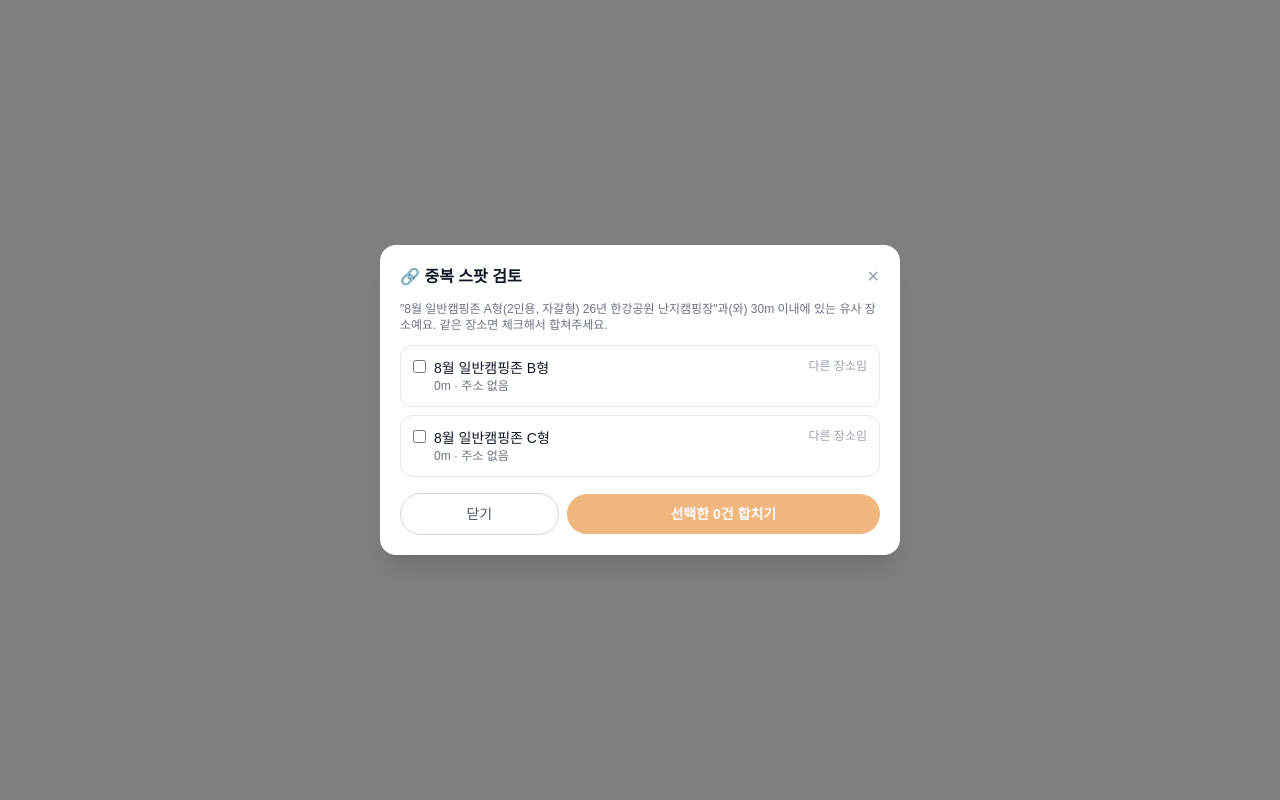
Test: SpotDedupQuickModal › 여러 건을 체크해 합치면 spot_ids에 현재 스팟 + 선택한 후보 전부가 담겨 저장된다
Check: the text "8월 일반캠핑존 B형" is shown, box [434,360,549,376]
Click the checkbox named "8월 일반캠핑존 B형 선택" at (420, 366), box [413,360,426,373]
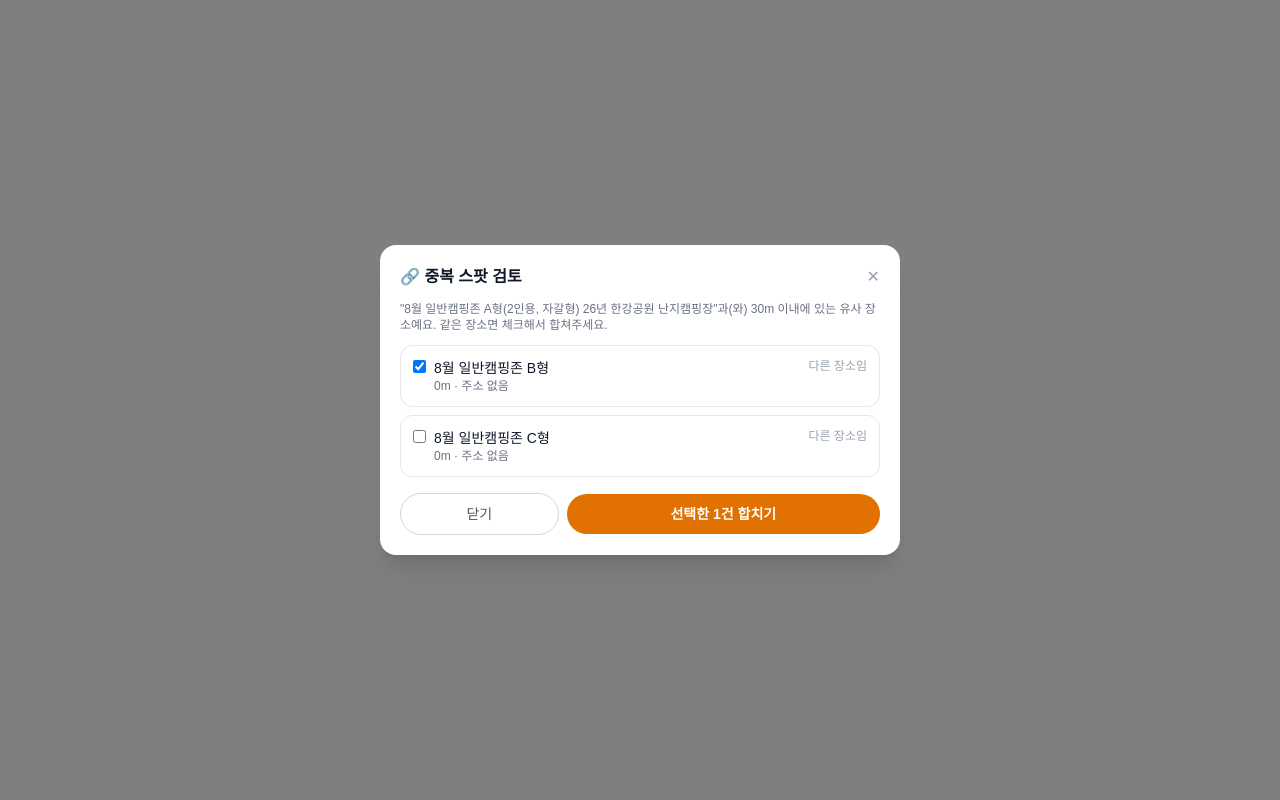
Click the checkbox named "8월 일반캠핑존 C형 선택" at (420, 436), box [413,430,426,443]
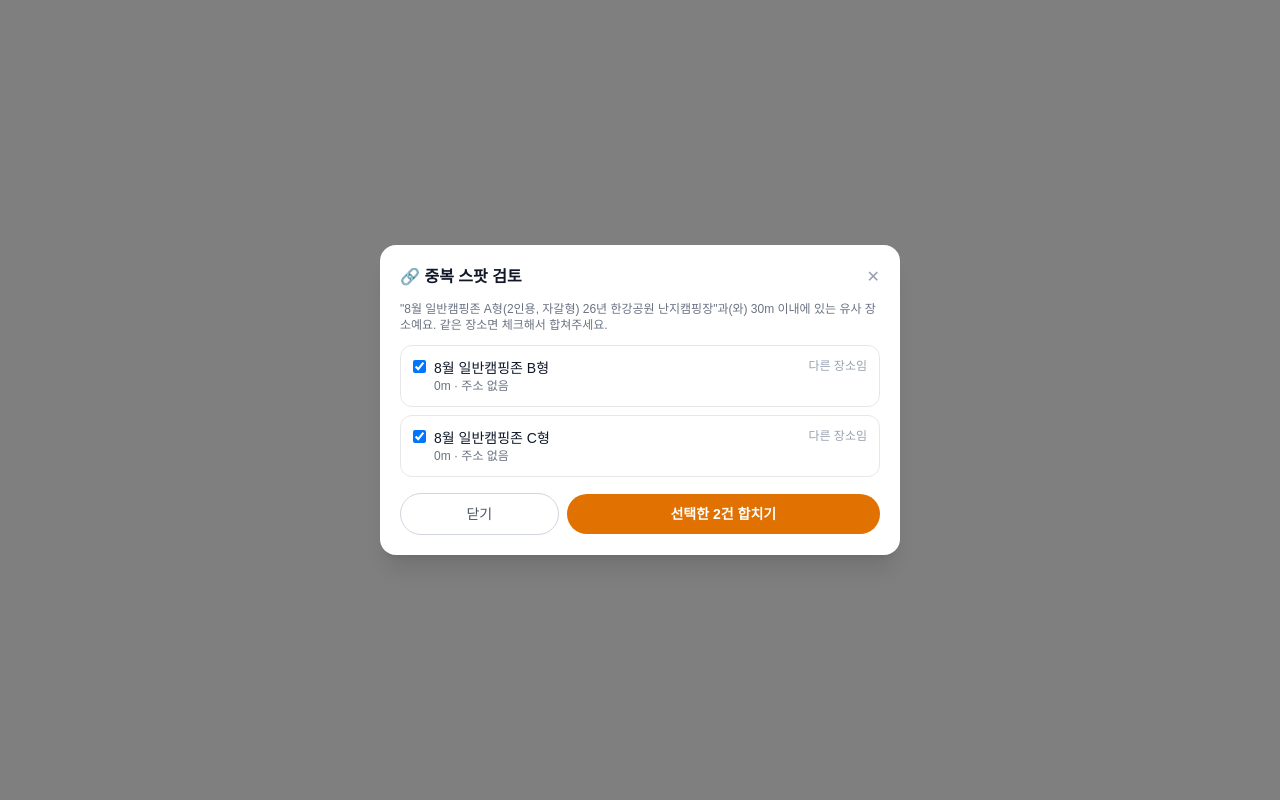
Click the button "선택한 2건 합치기" at (723, 514), box [567,494,880,534]
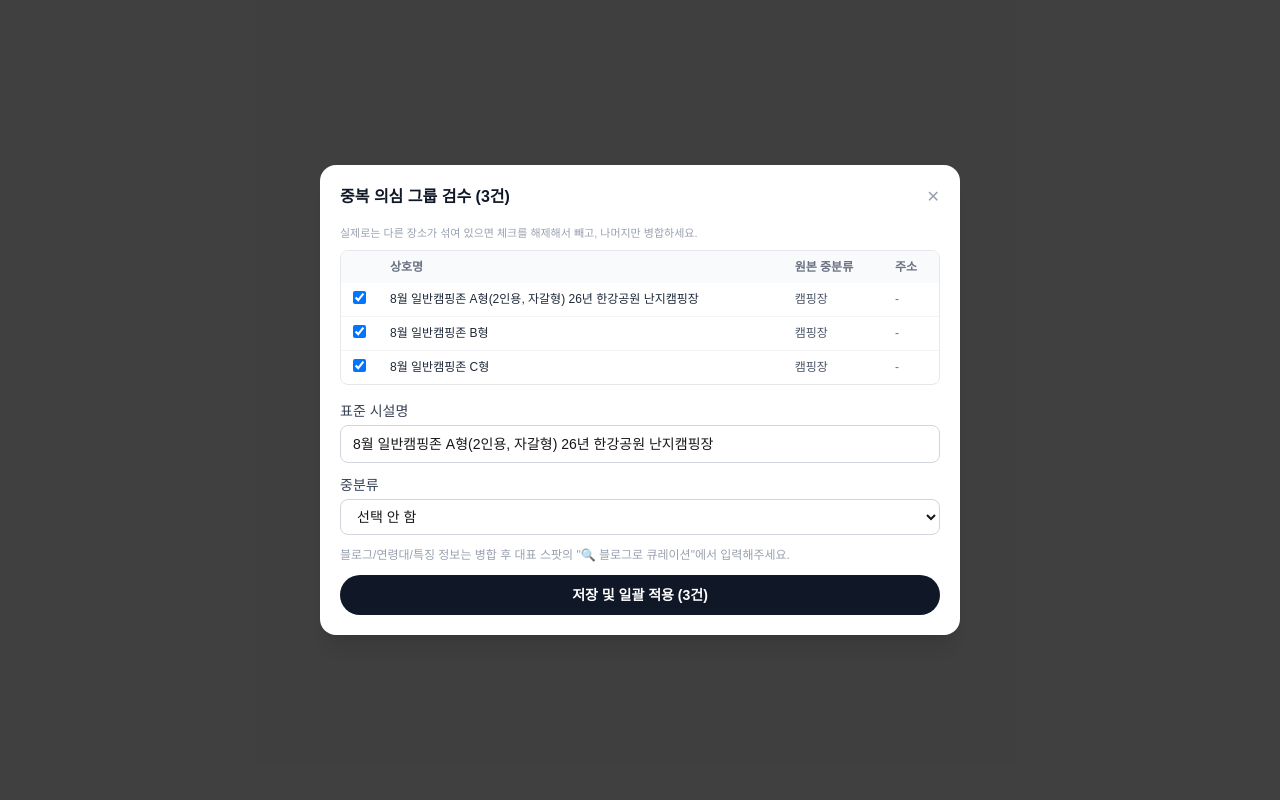
Check: the heading "중복 의심 그룹 검수 (3건)" is shown, box [340,185,510,209]
Click the button "저장 및 일괄 적용 (3건)" at (640, 595), box [340,575,940,615]
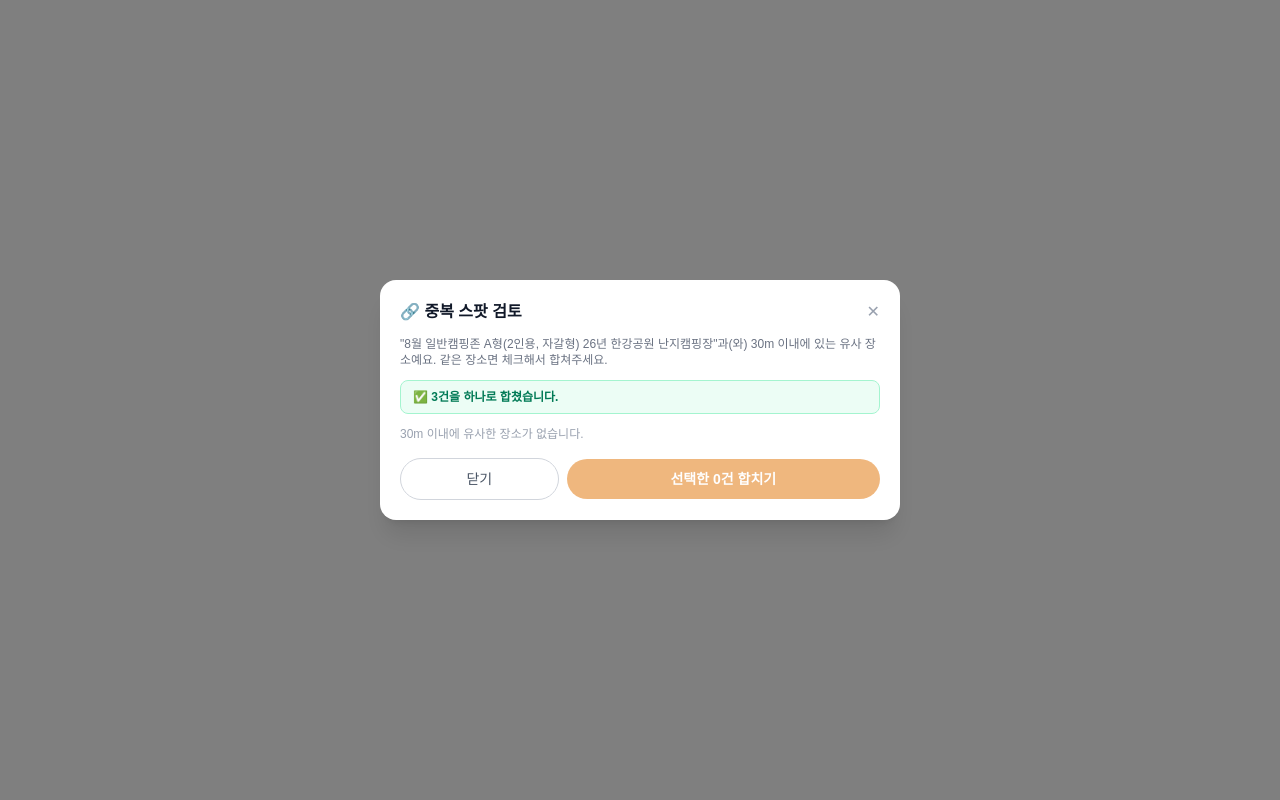
Check: the text "✅ 3건을 하나로 합쳤습니다." is shown, box [400,380,880,414]
Check: the text "8월 일반캠핑존 B형" is gone
